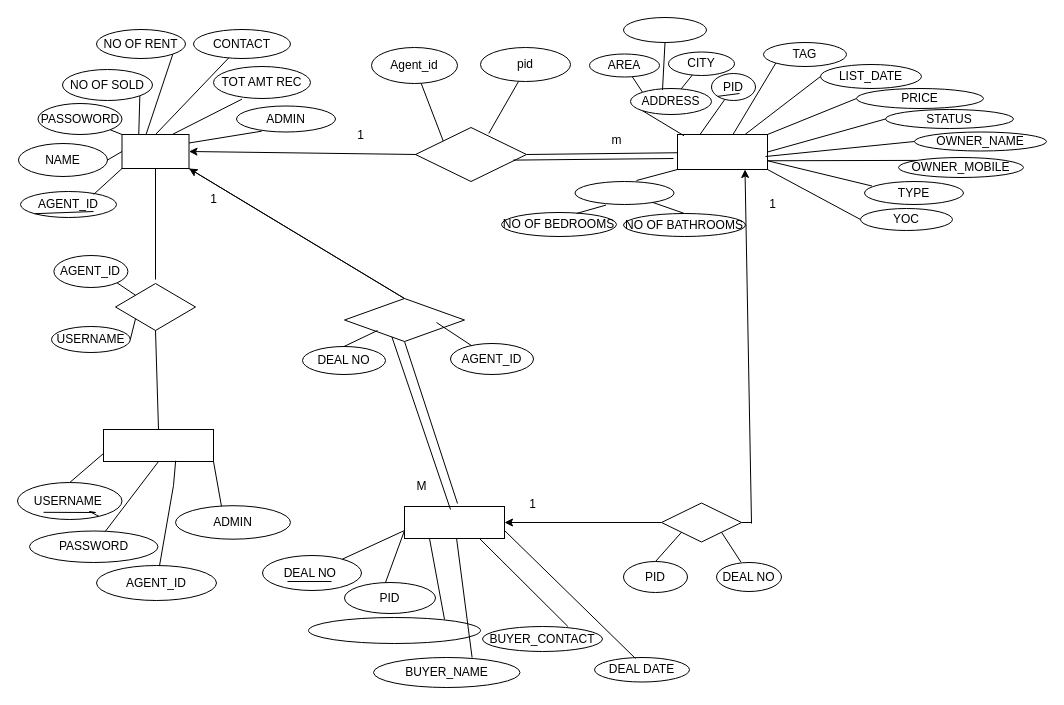
The diagram is 1064 pixels wide and 705 high, and some of its shapes have lost their labels. Each missing label, with the centre of its shape:
AGENT: pixel 155 151
DEAL: pixel 454 522
FEATURES: pixel 624 192
LOGIN: pixel 155 306
MANAGES: pixel 470 154
OFFICER: pixel 158 445
PINCODE: pixel 664 29
PROPERTY: pixel 722 152
SELLING PRICE: pixel 394 630
SOLD: pixel 701 522
UPDATE SALES: pixel 404 320
